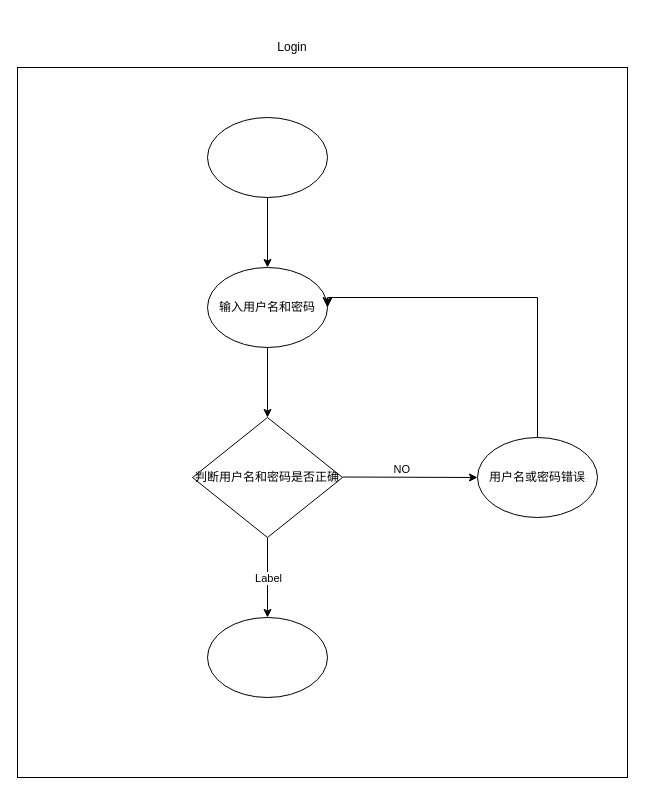
This 645x795 diagram has some shape labels left out. Here are the shapes that lost their labels. From the top down, the box of each, then its label:
(206, 116, 328, 198): 登陆
(206, 616, 328, 698): 用户登陆成功
